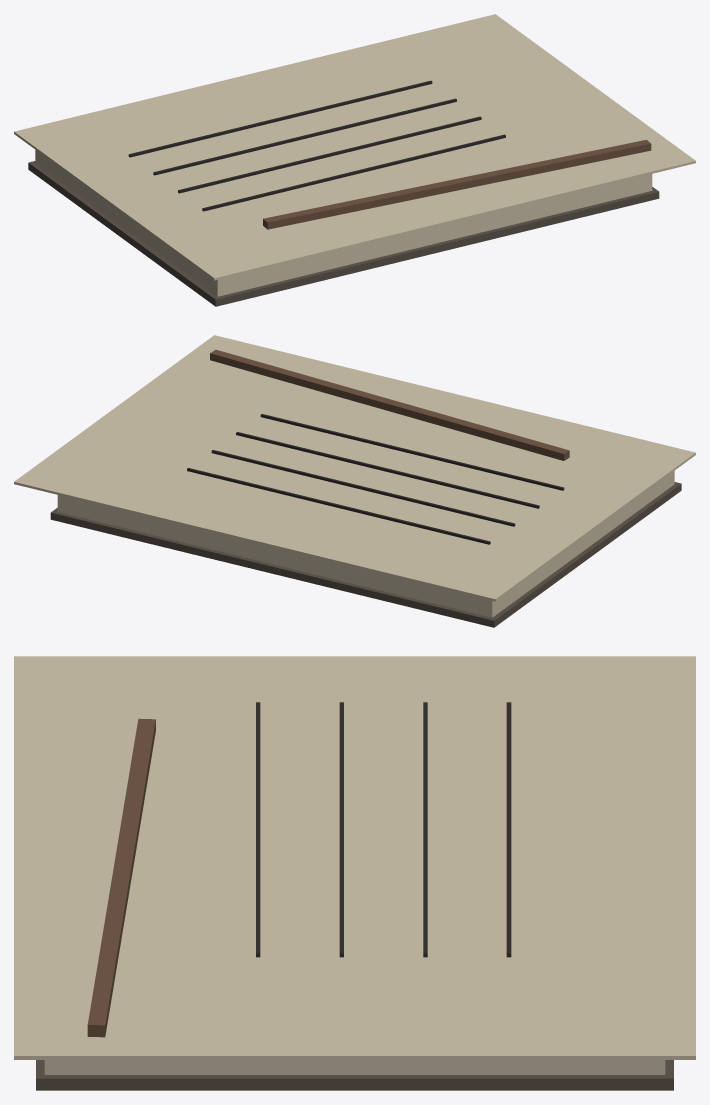
The model's file is main-session-notes.glb.
3 renders of one model, top to bottom at view 1: azimuth 30°, elevation 25°; view 2: azimuth 150°, elevation 25°; view 3: azimuth 270°, elevation 25°, orthographic. The views are drawn at different scales.
Visible parts, largest first — view 1: paper, fabric, plastic-dark, wood; view 2: paper, fabric, plastic-dark, wood; view 3: paper, fabric, wood, plastic-dark.
Boxes of the visible parts, x1,y1,x2,y2 form: paper: (14,14,695,296); fabric: (28,161,659,306); plastic-dark: (128,80,505,211); wood: (263,139,651,229); paper: (14,335,695,617); fabric: (50,482,681,627); plastic-dark: (187,414,564,544); wood: (210,349,569,460); paper: (14,656,695,1074); fabric: (36,1060,673,1090); wood: (87,718,155,1037); plastic-dark: (256,702,511,957).
Size of the model in its own units: 0.215 by 0.018 by 0.155.
